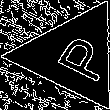P_NW: (37, 27, 109, 84)
